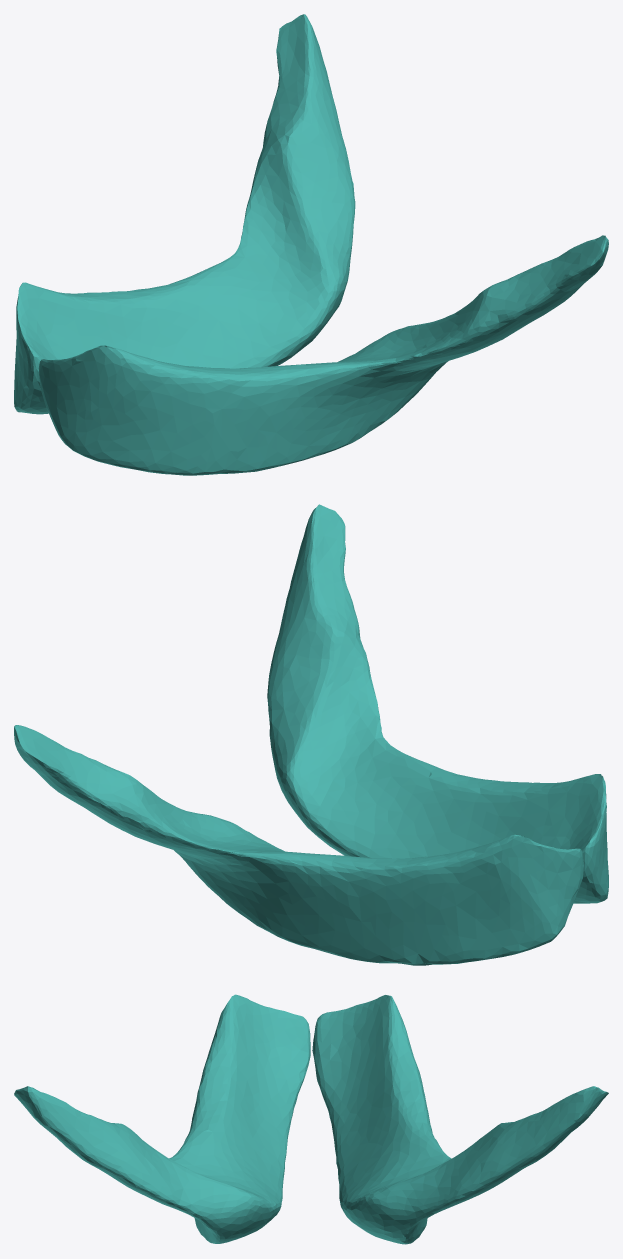
3 views of the same model, one above another, from view 1: azimuth 30°, elevation 25°; view 2: azimuth 150°, elevation 25°; view 3: azimuth 270°, elevation 25° (orthographic). The views are drawn at different scales.
Parts seen in each view (by area): view 1: 879.obj; view 2: 879.obj; view 3: 879.obj.
Part boxes in pixels (<box>): 879.obj: <box>14,14,608,475</box>; 879.obj: <box>14,504,608,965</box>; 879.obj: <box>14,994,608,1244</box>.
Bounding box in the file's own units: 4086 × 2202 × 5252.
